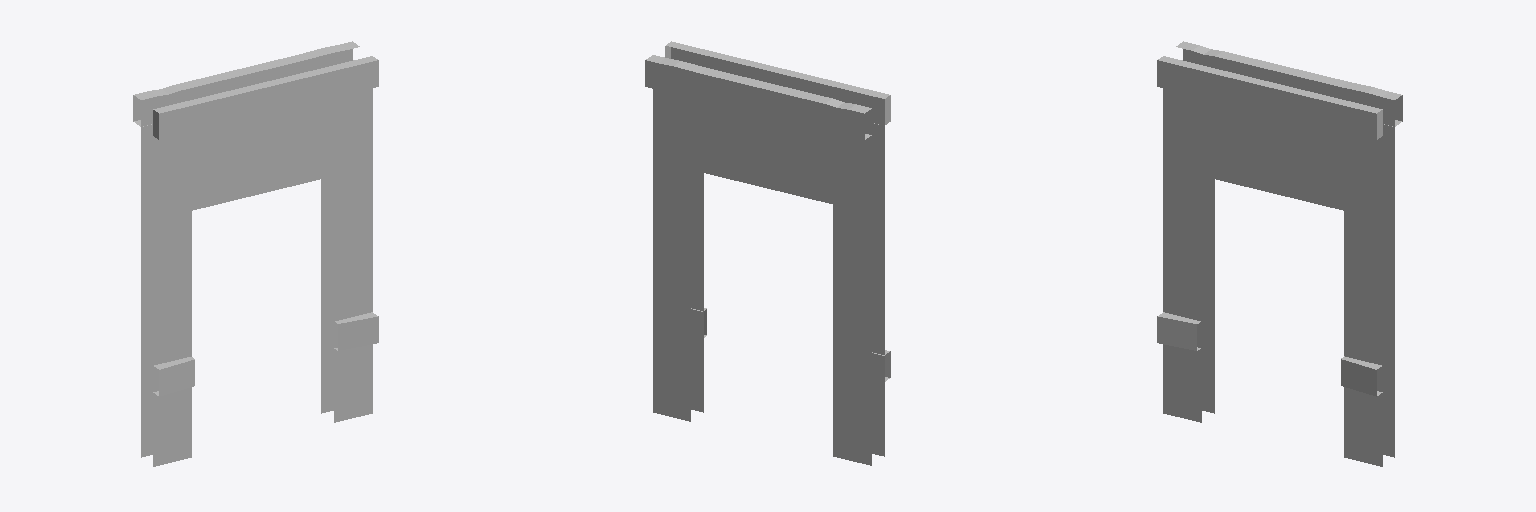
Rendered from Wall_Plaster_Door_Flat.obj.
3 renders of one model, left to right at view 1: azimuth 30°, elevation 25°; view 2: azimuth 150°, elevation 25°; view 3: azimuth 330°, elevation 25°, orthographic.
Visible parts, largest first — view 1: Wall_Plaster_Door_Flat; view 2: Wall_Plaster_Door_Flat; view 3: Wall_Plaster_Door_Flat.
Part boxes in pixels (x1,y1,x2,y2): Wall_Plaster_Door_Flat: (133, 41, 378, 466); Wall_Plaster_Door_Flat: (645, 41, 890, 465); Wall_Plaster_Door_Flat: (1157, 41, 1402, 466).
Size of the model in its own units: 2 by 3.12 by 0.4065.